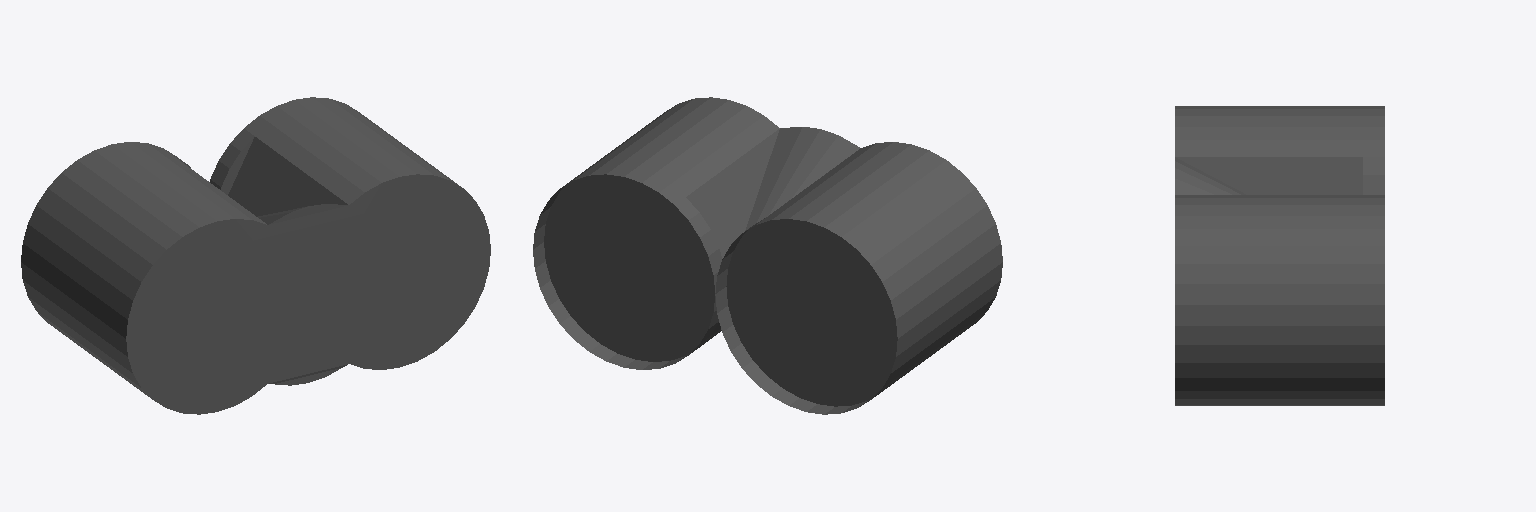
The model's file is DualShot.obj.
3 renders of one model, left to right at view 1: azimuth 30°, elevation 25°; view 2: azimuth 150°, elevation 25°; view 3: azimuth 270°, elevation 25°, orthographic.
Visible parts, largest first — view 1: Cone; view 2: Cone; view 3: Cone.
Boxes of the visible parts, x1=… form: Cone: x1=21, y1=97, x2=490, y2=414; Cone: x1=533, y1=97, x2=1002, y2=414; Cone: x1=1175, y1=106, x2=1384, y2=405.
Bounding box in the file's own units: 4 × 2 × 2.